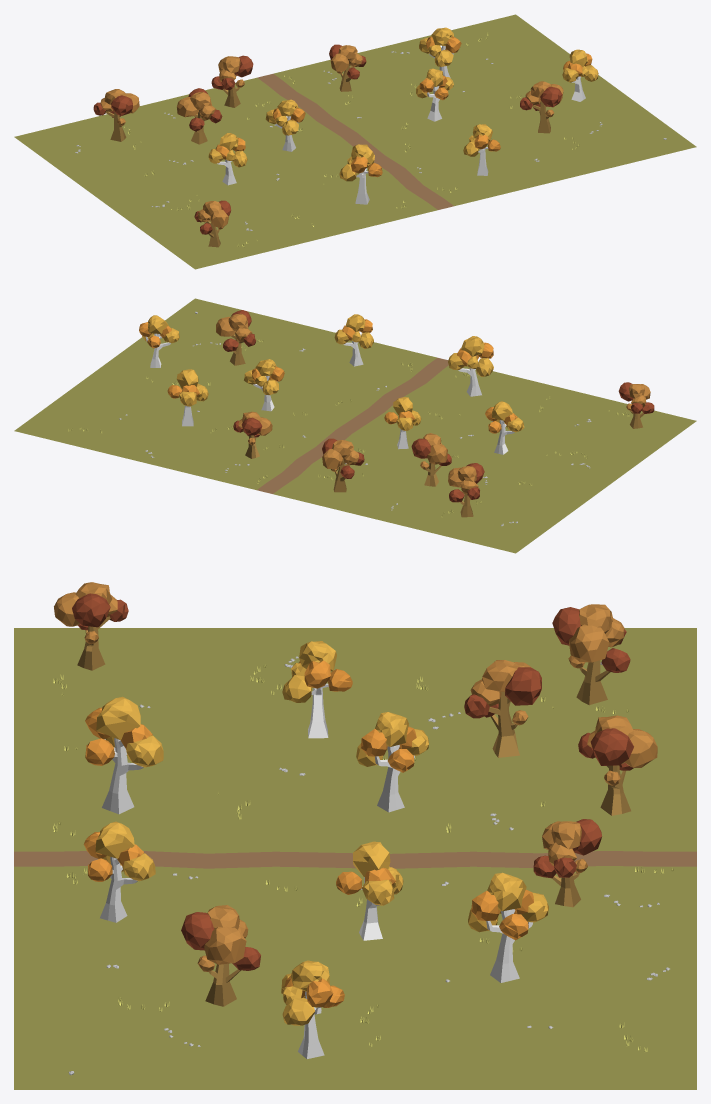
Rendered from landscapeTileBdraco.glb.
3 views of the same model, one above another, from view 1: azimuth 30°, elevation 25°; view 2: azimuth 150°, elevation 25°; view 3: azimuth 270°, elevation 25° (orthographic). The views are drawn at different scales.
Visible parts, largest first — view 1: Plane.002; view 2: Plane.002; view 3: Plane.002.
Part boxes in pixels (x1,y1,x2,y2): Plane.002: (14, 14, 696, 269); Plane.002: (14, 298, 696, 553); Plane.002: (14, 582, 696, 1089).
Bounding box in the file's own units: 200 × 21.92 × 125.
